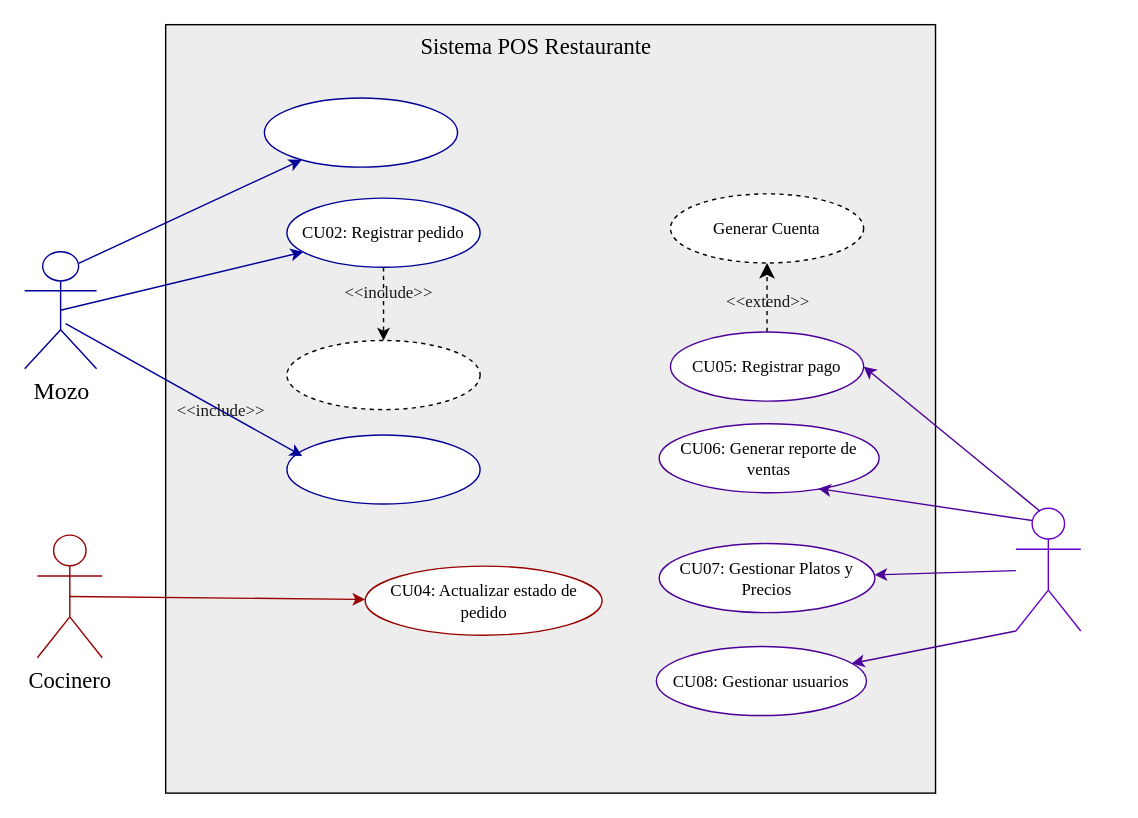
The diagram is 1138 pixels wide and 818 high, and some of its shapes have lost their labels. Here are the shapes that lost their labels. From the top down, the box of each, then its label:
(263, 97, 458, 167): CU01: Gestionar mesas
(286, 339, 480, 410): Seleccionar mesa
(286, 434, 480, 504): CU03: Enviar pedido a Cocina
(1014, 507, 1081, 631): Administrador
